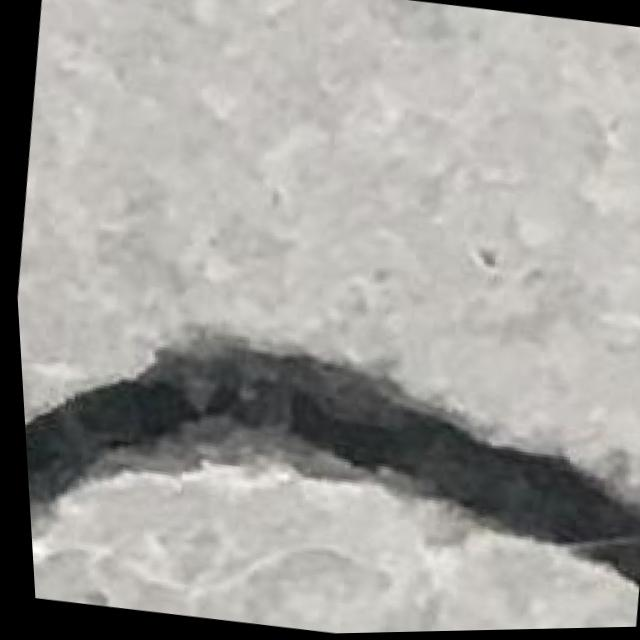Crack: (14, 282, 640, 636)
